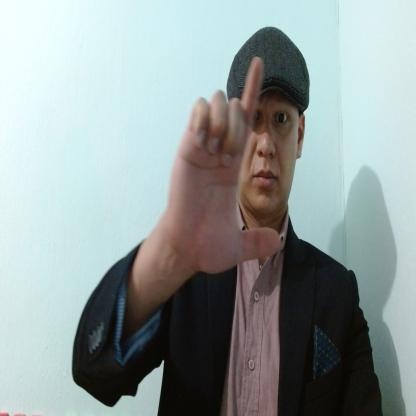L: (171, 57, 282, 275)
